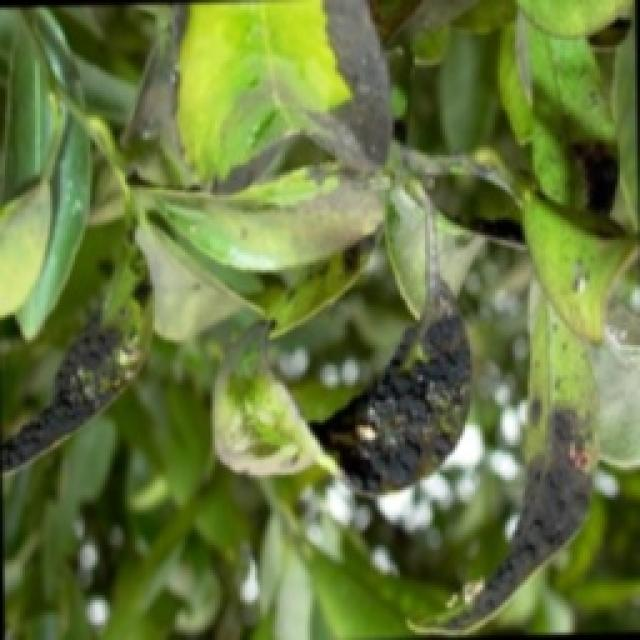Sooty Mold: (191, 0, 558, 603)
